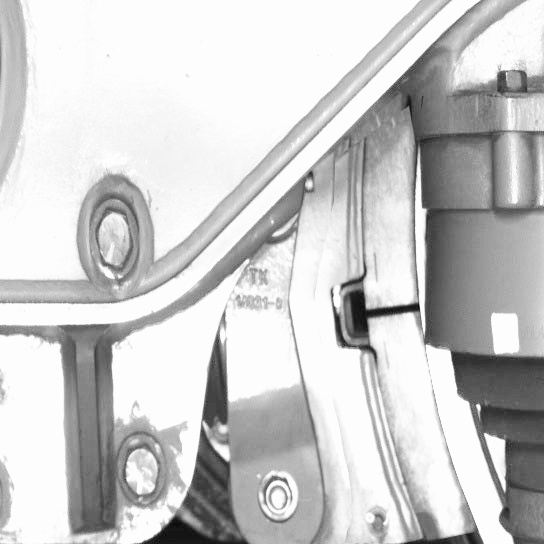ClosedKnifeSwitch: (365, 134, 485, 541)
